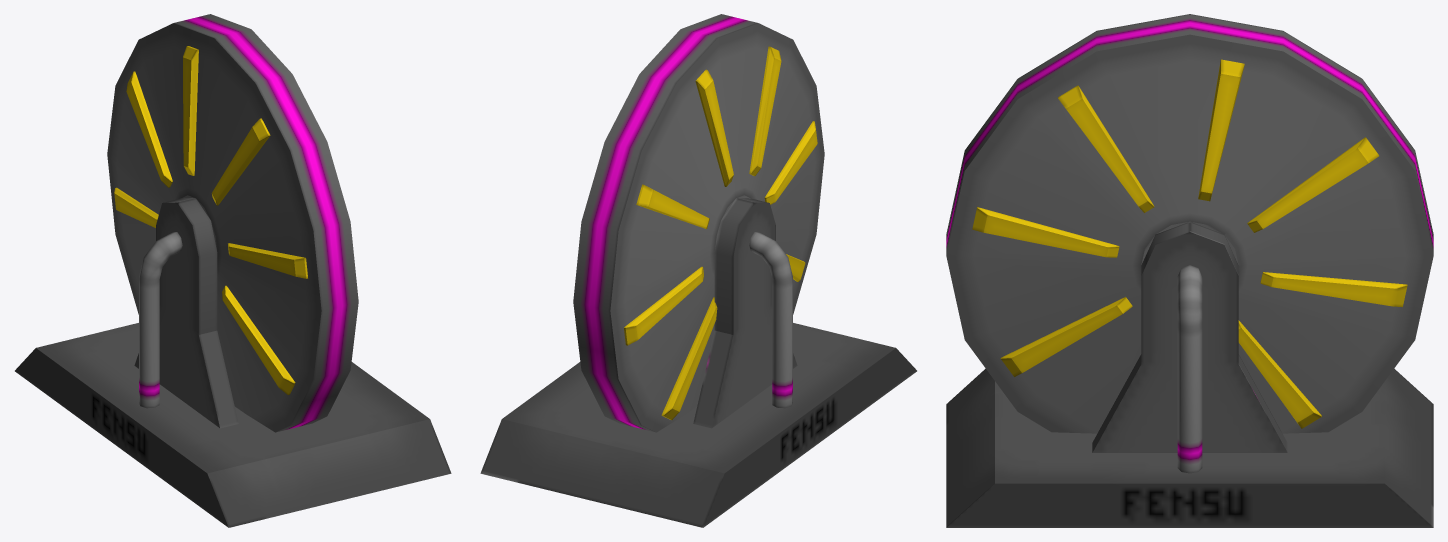
Rendered from fensu.obj.
The picture shows the model from 3 angles, left to right: view 1: azimuth 30°, elevation 25°; view 2: azimuth 150°, elevation 25°; view 3: azimuth 270°, elevation 25°; orthographic projection. The views are drawn at different scales.
Visible parts, largest first — view 1: Disc, Base, Lights; view 2: Disc, Base, Lights; view 3: Disc, Base, Lights.
Part boxes in pixels (left/top/right/bottom): Disc: left=107, top=14, right=358, bottom=432; Base: left=15, top=198, right=451, bottom=527; Lights: left=114, top=46, right=307, bottom=394; Disc: left=573, top=14, right=824, bottom=432; Base: left=480, top=198, right=916, bottom=527; Lights: left=624, top=46, right=817, bottom=419; Disc: left=946, top=14, right=1433, bottom=433; Base: left=946, top=222, right=1433, bottom=527; Lights: left=972, top=59, right=1407, bottom=428.
Size of the model in its own units: 3 by 5 by 5.
